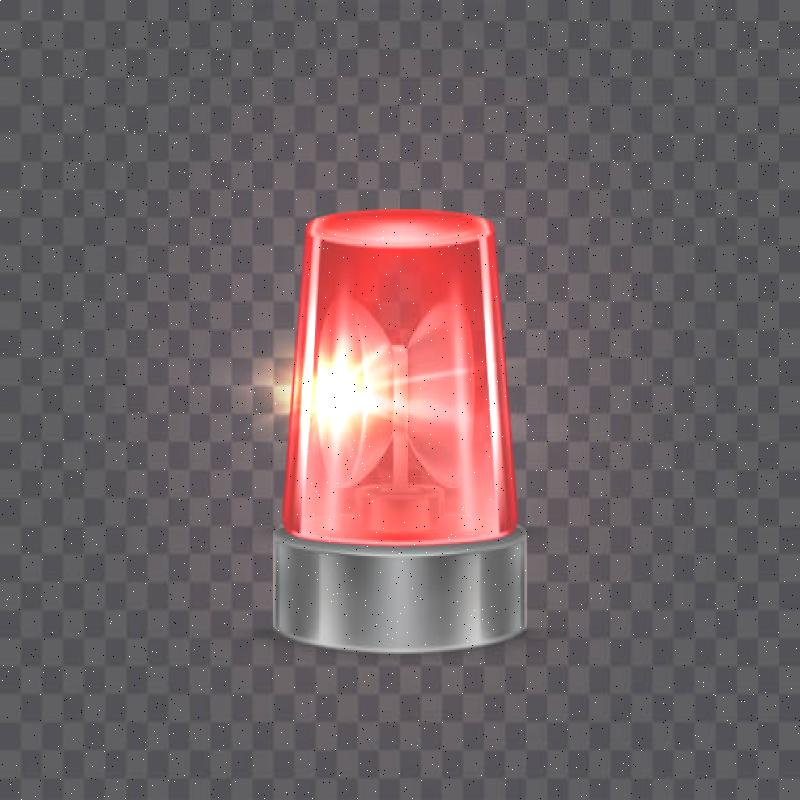AmbulanceSiren: (263, 173, 543, 667)
